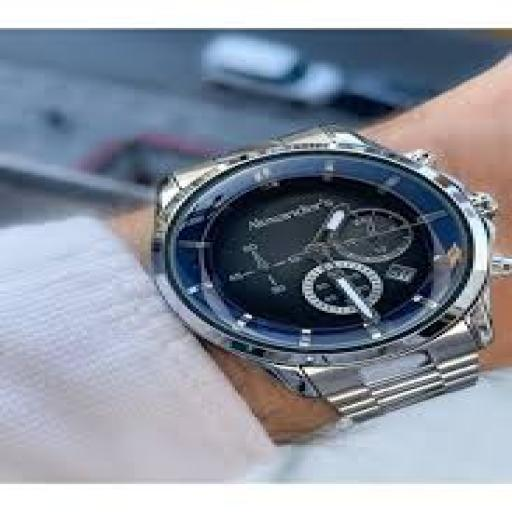KolSaati: (89, 101, 512, 413)
